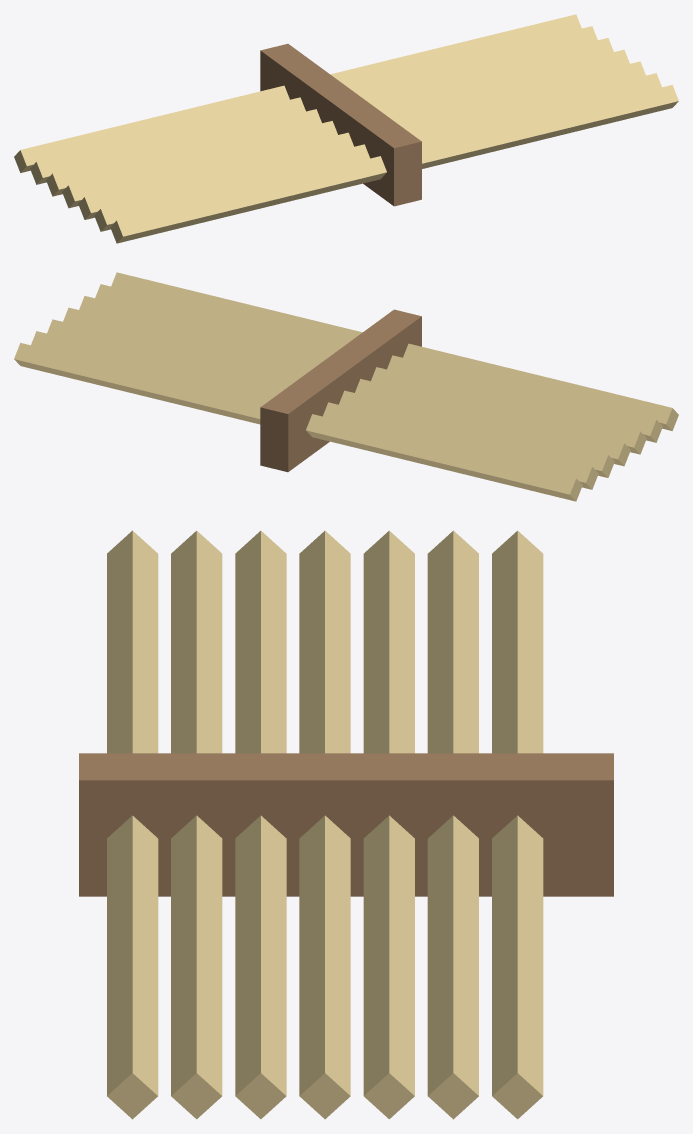
File: item_032_flax_fibre_s.glb
3 renders of one model, top to bottom at view 1: azimuth 30°, elevation 25°; view 2: azimuth 150°, elevation 25°; view 3: azimuth 270°, elevation 25°, orthographic. The views are drawn at different scales.
Visible parts, largest first — view 1: item_032_flax_fibre_s; view 2: item_032_flax_fibre_s; view 3: item_032_flax_fibre_s.
Part boxes in pixels (bbox=[...]): item_032_flax_fibre_s: bbox=[14, 14, 678, 243]; item_032_flax_fibre_s: bbox=[14, 272, 678, 501]; item_032_flax_fibre_s: bbox=[79, 530, 613, 1119].
Size of the model in its own units: 0.6 by 0.06 by 0.25.
